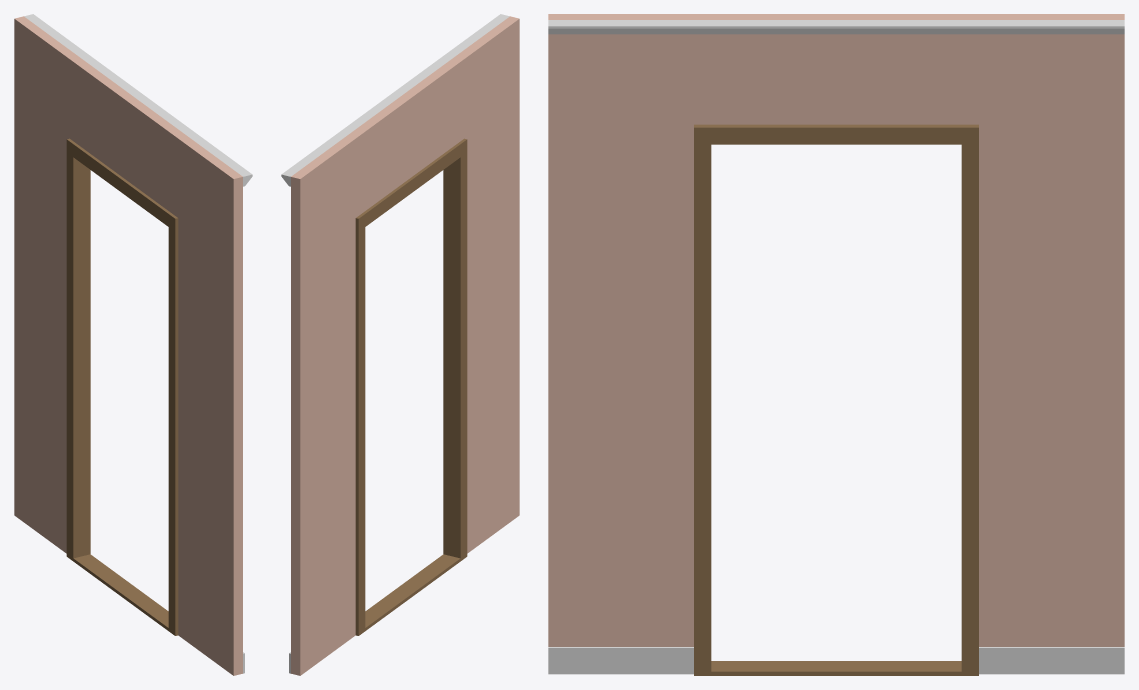
Rendered from simplewall_doorframe.glb.
3 views of the same model, side by side, from view 1: azimuth 30°, elevation 25°; view 2: azimuth 150°, elevation 25°; view 3: azimuth 270°, elevation 25° (orthographic). The views are drawn at different scales.
Visible parts, largest first — view 1: Simple Wall, DoorFrame; view 2: Simple Wall, DoorFrame; view 3: Simple Wall, DoorFrame.
Boxes of the visible parts, x1,y1,x2,y2 form: Simple Wall: (14, 14, 252, 675); DoorFrame: (66, 138, 178, 635); Simple Wall: (281, 14, 519, 675); DoorFrame: (355, 138, 467, 635); Simple Wall: (548, 14, 1124, 674); DoorFrame: (694, 124, 978, 675).
Bounding box in the file's own units: 0.1155 × 2.5 × 2.
